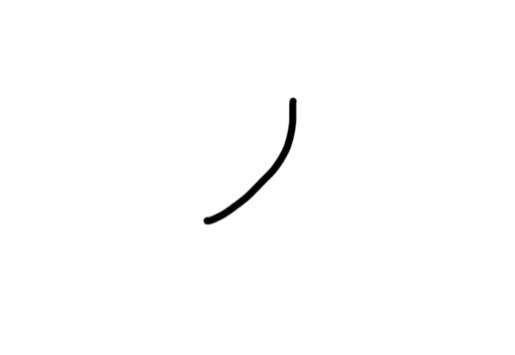no: (187, 89, 304, 236)
